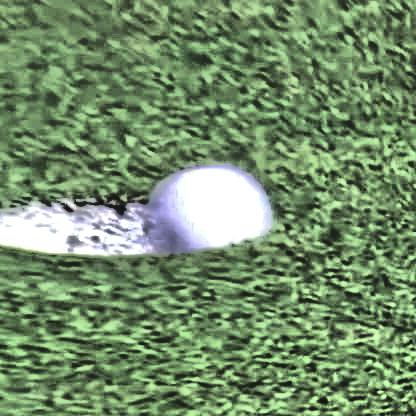golfball: (144, 177, 270, 268)
